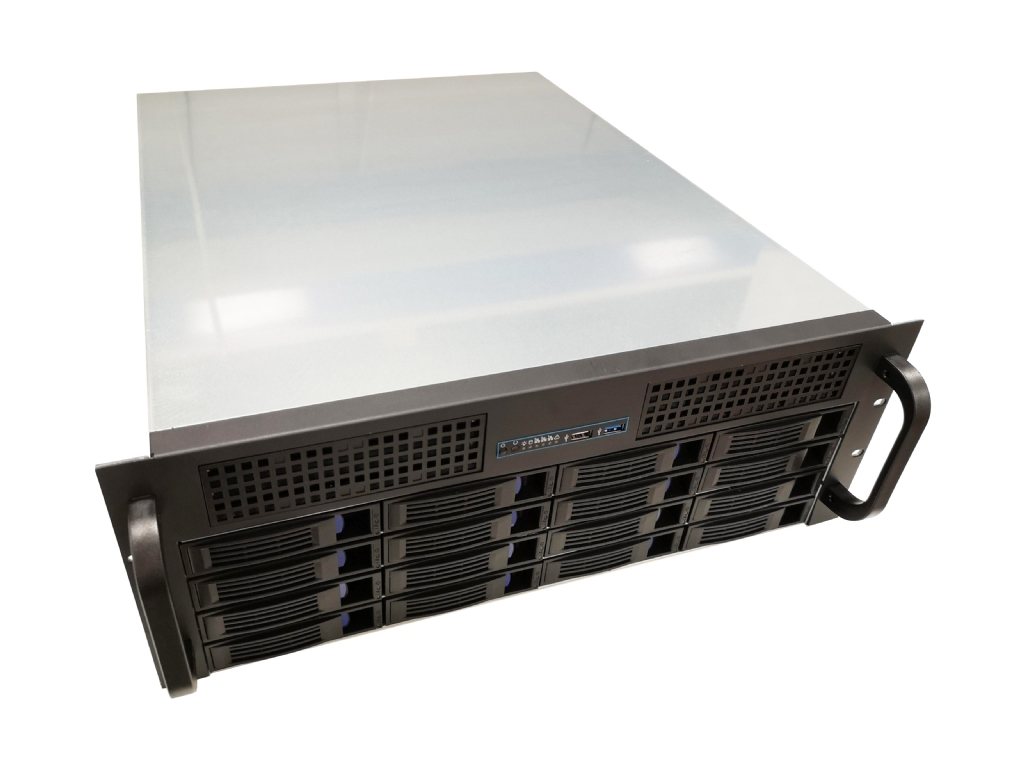File Server: (65, 61, 973, 710)
